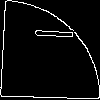I: (25, 24, 74, 42)
